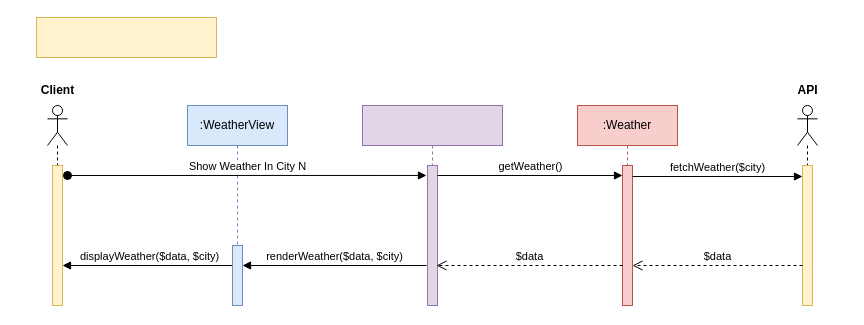
Some shapes in this 864 by 325 pixel diagram are drawn without their labels. Here are the shapes that lost their labels. From the top down, the centre of each, then its label:
At pixel 126 37: "Get Weather".
At pixel 432 205: ":WeatherController".
